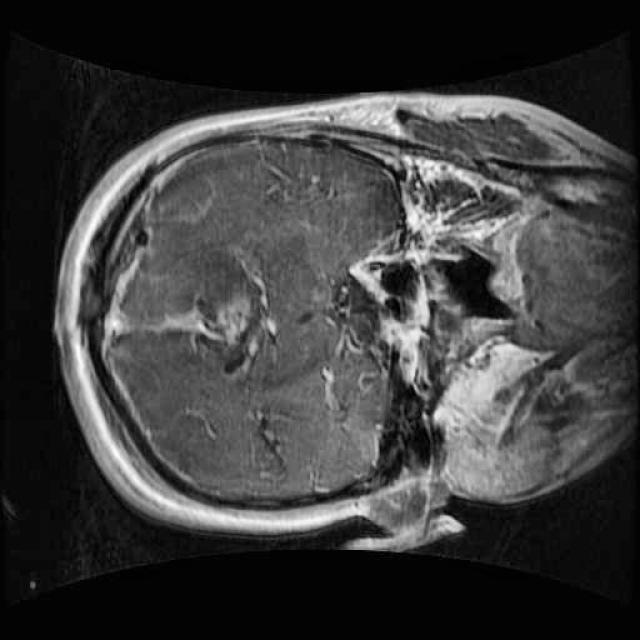Non-Tumor: (139, 230, 290, 389)
